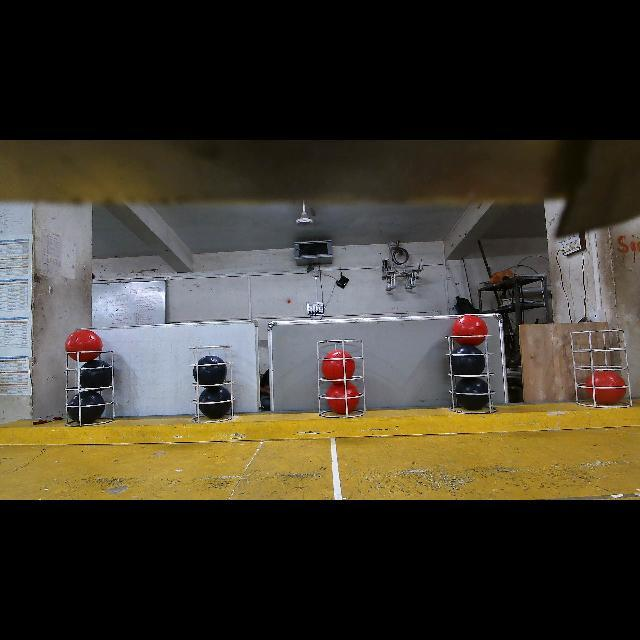P: (68, 390, 105, 425), (456, 378, 495, 410), (199, 386, 231, 419), (451, 345, 486, 375), (194, 355, 228, 385), (80, 359, 112, 389)
R: (585, 371, 628, 404), (65, 330, 102, 362), (452, 315, 488, 346), (326, 382, 359, 414), (321, 350, 355, 380)
S: (567, 329, 633, 409), (442, 334, 500, 414), (314, 340, 368, 418), (64, 350, 116, 428), (184, 345, 236, 423)
